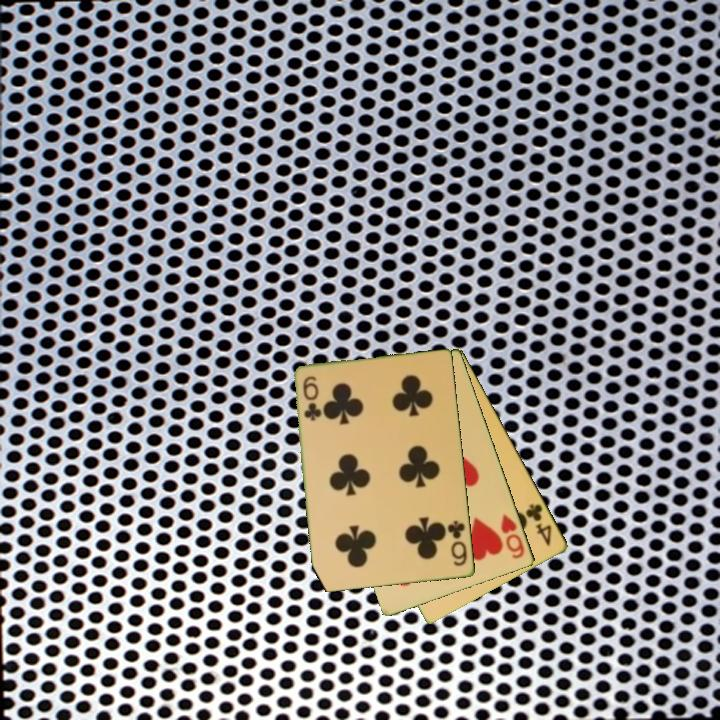4c: (522, 500, 555, 549)
6c: (444, 517, 470, 569), (300, 373, 322, 424)
6h: (498, 510, 528, 562)
